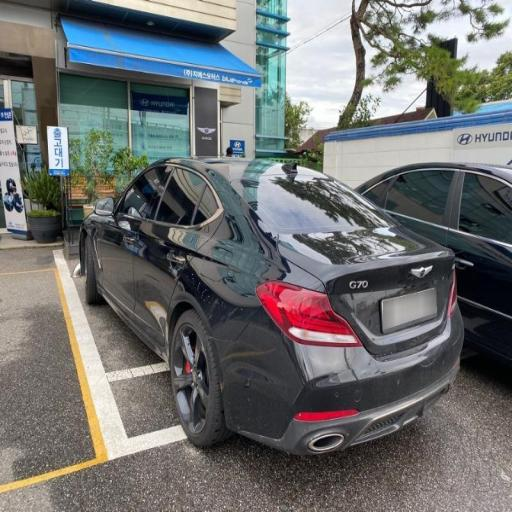dent: (139, 254, 192, 368)
